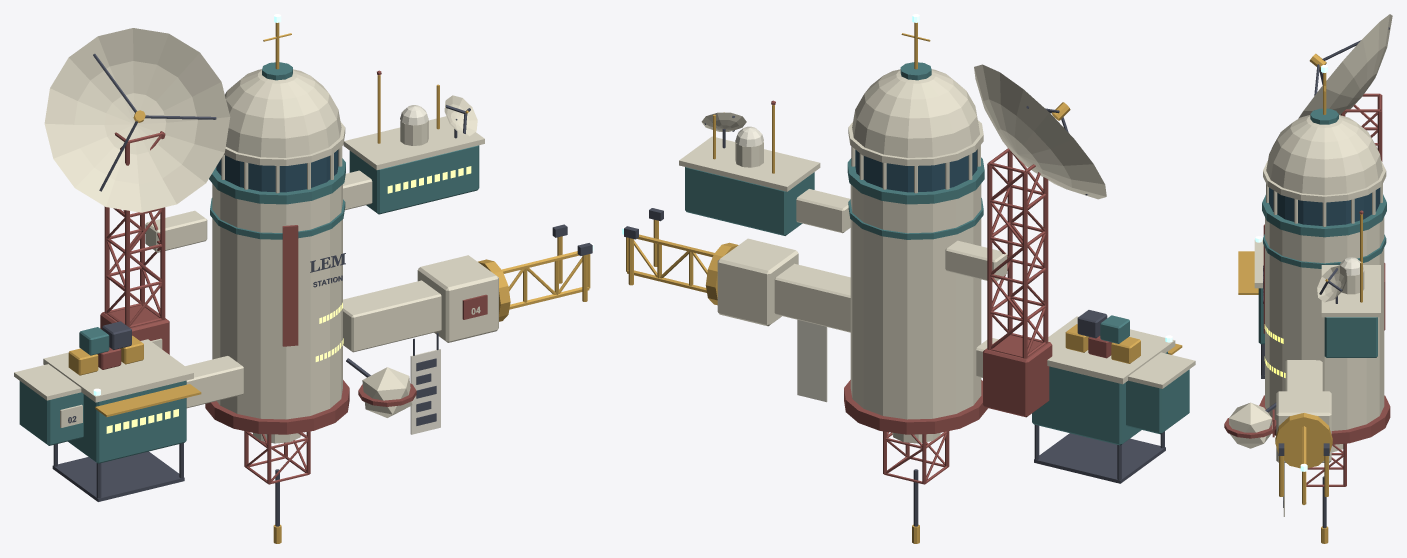
The model's file is lem-station.glb.
3 renders of one model, left to right at view 1: azimuth 30°, elevation 25°; view 2: azimuth 150°, elevation 25°; view 3: azimuth 270°, elevation 25°, orthographic. The views are drawn at different scales.
Parts seen in each view (by area): view 1: listening_dish_face, original_pressure_hull, observation_dome, berth_connector, market_hall, signals_office, berth_module, market_roof, market_skid, signals_roof, observation_glazing, market_annex (+16 smaller); view 2: original_pressure_hull, observation_dome, listening_dish_face, signals_office, market_hall, berth_module, module_03, berth_connector, market_skid, signals_roof, market_roof, market_annex (+15 smaller); view 3: original_pressure_hull, observation_dome, listening_dish_face, observation_glazing, berth_collar, signals_office, signals_roof, berth_module, upper_collar, sphere_tank, berth_connector, observation_deck (+11 smaller).
Boxes of the visible parts, x1=… form: listening_dish_face: x1=44, y1=28, x2=230, y2=212; original_pressure_hull: x1=212, y1=184, x2=342, y2=419; observation_dome: x1=225, y1=69, x2=341, y2=157; berth_connector: x1=343, y1=280, x2=441, y2=352; market_hall: x1=68, y1=380, x2=186, y2=463; signals_office: x1=349, y1=145, x2=479, y2=214; berth_module: x1=417, y1=255, x2=498, y2=342; market_roof: x1=43, y1=339, x2=193, y2=402; market_skid: x1=52, y1=451, x2=184, y2=501; signals_roof: x1=343, y1=116, x2=484, y2=169; observation_glazing: x1=216, y1=150, x2=338, y2=192; market_annex: x1=19, y1=381, x2=83, y2=445; original_pressure_hull: x1=850, y1=184, x2=981, y2=419; observation_dome: x1=852, y1=69, x2=979, y2=157; listening_dish_face: x1=974, y1=64, x2=1106, y2=199; signals_office: x1=685, y1=167, x2=814, y2=235; market_hall: x1=1032, y1=351, x2=1167, y2=445; berth_module: x1=717, y1=238, x2=798, y2=326; module_03: x1=983, y1=335, x2=1052, y2=417; berth_connector: x1=774, y1=263, x2=850, y2=332; market_skid: x1=1034, y1=433, x2=1165, y2=483; signals_roof: x1=679, y1=136, x2=820, y2=191; market_roof: x1=1047, y1=316, x2=1175, y2=384; market_annex: x1=1126, y1=369, x2=1189, y2=434; original_pressure_hull: x1=1265, y1=217, x2=1384, y2=430; observation_dome: x1=1266, y1=115, x2=1382, y2=195; listening_dish_face: x1=1298, y1=14, x2=1392, y2=118; observation_glazing: x1=1269, y1=187, x2=1380, y2=225; berth_collar: x1=1275, y1=413, x2=1332, y2=468; signals_office: x1=1324, y1=317, x2=1377, y2=357; signals_roof: x1=1321, y1=265, x2=1380, y2=317; berth_module: x1=1276, y1=391, x2=1331, y2=462; upper_collar: x1=1262, y1=194, x2=1386, y2=237; sphere_tank: x1=1229, y1=402, x2=1272, y2=448; berth_connector: x1=1285, y1=360, x2=1322, y2=391; observation_deck: x1=1263, y1=161, x2=1386, y2=202.
Bounding box in the file's own units: 14.21 × 12.78 × 4.1.
